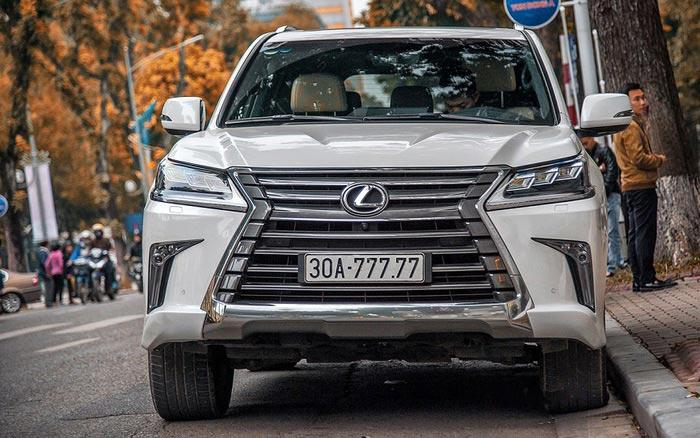numplate: (300, 251, 426, 281)
